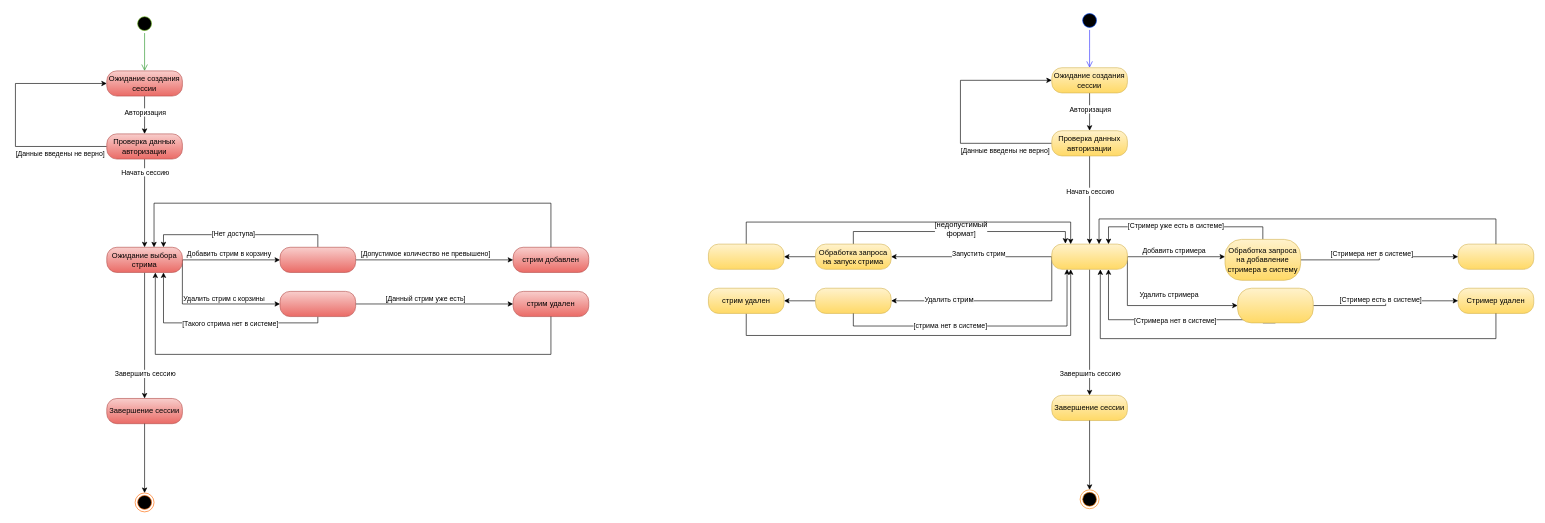
Image size: 1545x523. Some labels were removed from this diagram. Each missing label, with the box of its shape:
Обработка запроса на добавление: (279, 247, 356, 272)
Обработка запроса на удаление: (279, 291, 356, 317)
Обработка запроса на удаление стрима: (815, 288, 891, 313)
Обработка запроса на удаление стримера из системы: (1237, 288, 1313, 323)
Ожидание выбора действия: (1051, 243, 1127, 269)
стрим запущен: (708, 243, 784, 269)
Стример добавлен: (1458, 243, 1534, 269)
